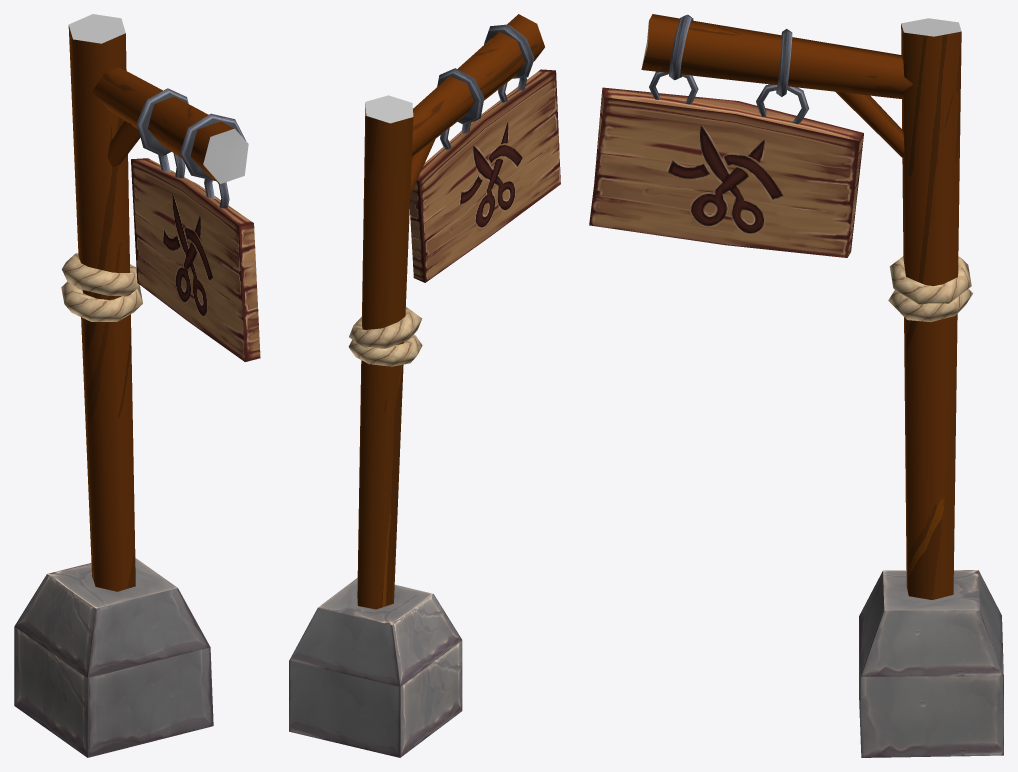
Rendered from SM_PROP_sign_05.fbx.
The picture shows the model from 3 angles, left to right: view 1: azimuth 30°, elevation 25°; view 2: azimuth 150°, elevation 25°; view 3: azimuth 270°, elevation 25°; orthographic projection. The views are drawn at different scales.
Visible parts, largest first — view 1: SM_PROP_sign_05; view 2: SM_PROP_sign_05; view 3: SM_PROP_sign_05.
Boxes of the visible parts, bbox=[...] form: SM_PROP_sign_05: bbox=[14, 14, 260, 757]; SM_PROP_sign_05: bbox=[289, 14, 560, 757]; SM_PROP_sign_05: bbox=[589, 14, 1003, 757].
Bounding box in the file's own units: 65.51 × 340 × 183.
